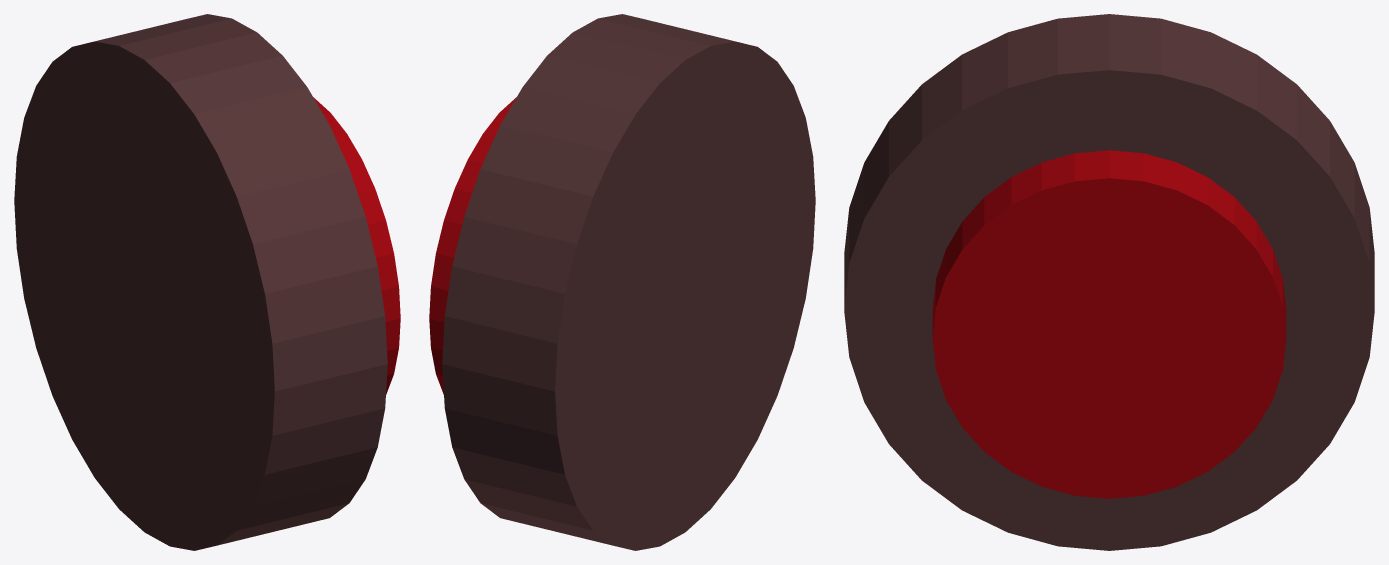
File: Button.fbx
3 views of the same model, side by side, from view 1: azimuth 30°, elevation 25°; view 2: azimuth 150°, elevation 25°; view 3: azimuth 270°, elevation 25° (orthographic).
Visible parts, largest first — view 1: Stand, Button; view 2: Stand, Button; view 3: Stand, Button.
Boxes of the visible parts, x1,y1,x2,y2 form: Stand: (14, 14, 387, 550); Button: (313, 97, 400, 394); Stand: (442, 14, 815, 550); Button: (429, 97, 516, 394); Stand: (844, 14, 1374, 550); Button: (932, 150, 1286, 498).
Size of the model in its own units: 22.5 by 60 by 60.
